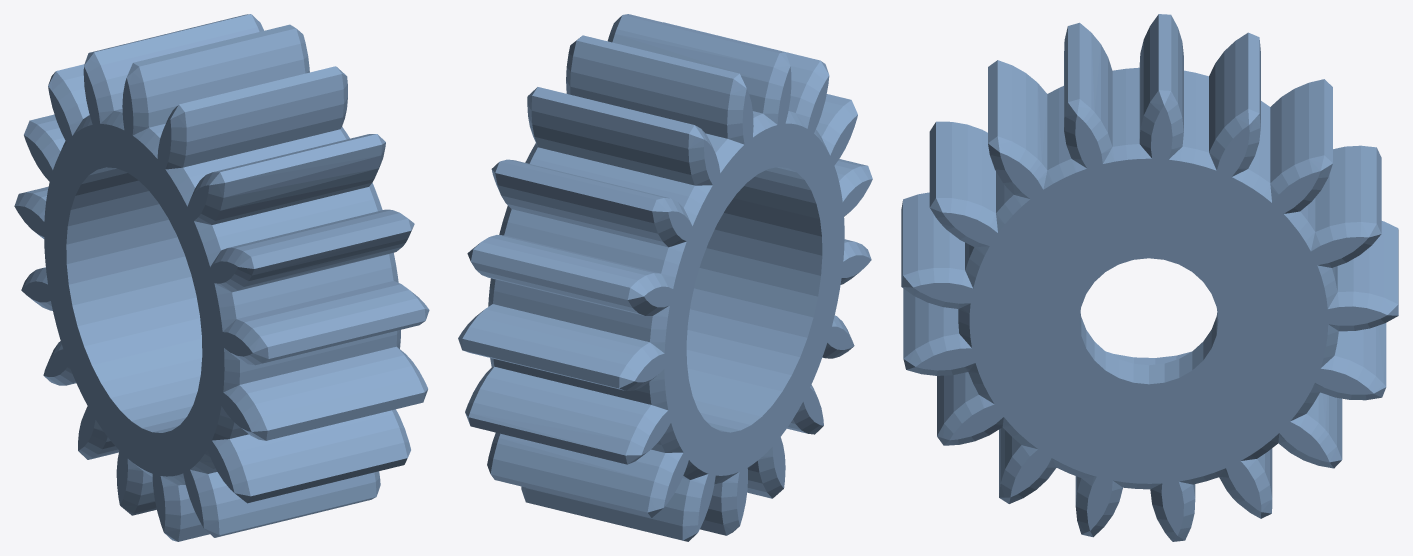
Rendered from feeder_spool.glb.
3 renders of one model, left to right at view 1: azimuth 30°, elevation 25°; view 2: azimuth 150°, elevation 25°; view 3: azimuth 270°, elevation 25°, orthographic.
Parts seen in each view (by area): view 1: pt_7#0; view 2: pt_7#0; view 3: pt_7#0.
Boxes of the visible parts, x1,y1,x2,y2 form: pt_7#0: (14,14,429,541); pt_7#0: (458,14,872,541); pt_7#0: (901,14,1398,541).
Size of the model in its own units: 0.0054 by 0.0133 by 0.0132.
